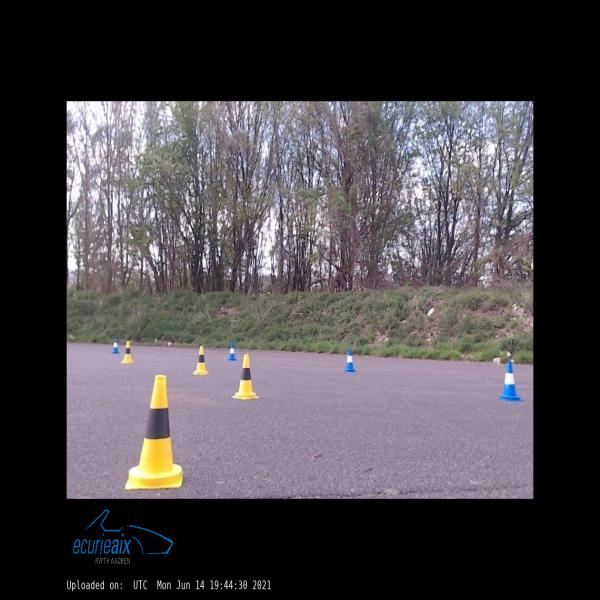blue_cone: (500, 362, 522, 402), (345, 348, 356, 372), (228, 343, 237, 360), (112, 339, 119, 354)
yellow_cone: (126, 375, 182, 489), (231, 355, 259, 400), (194, 346, 209, 374), (120, 341, 134, 364)
